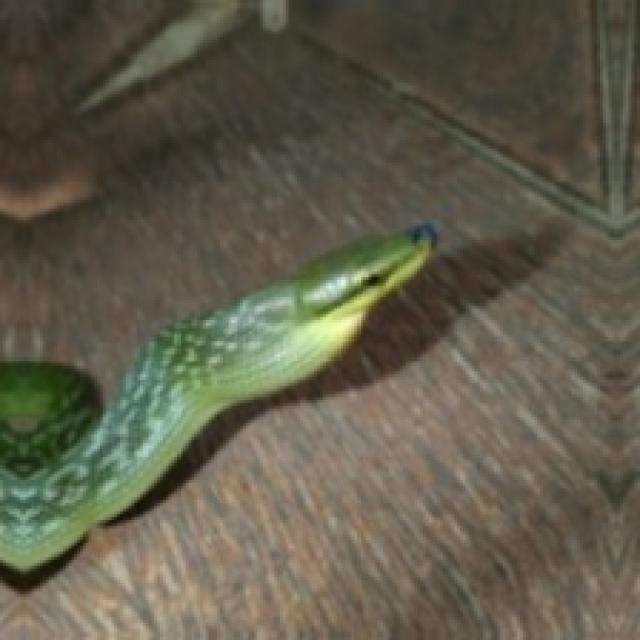red-tailed green ratsnake: (0, 226, 434, 569)
